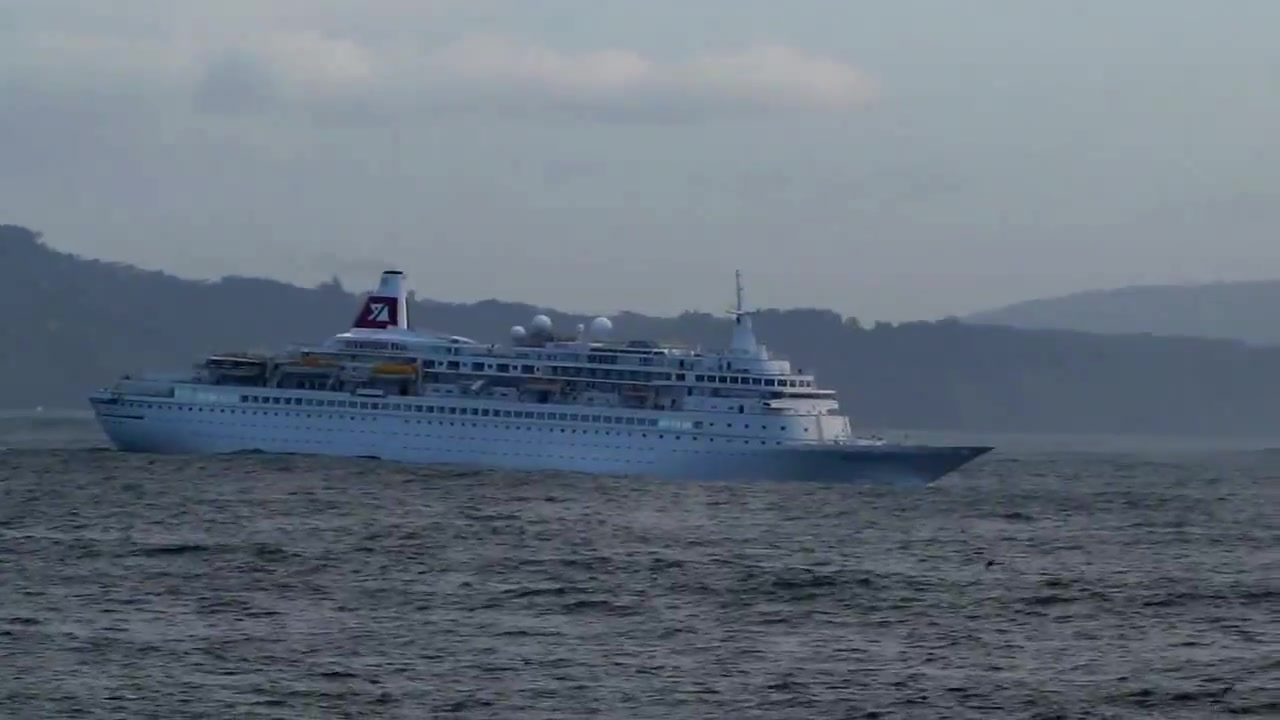boat: (86, 269, 996, 485)
